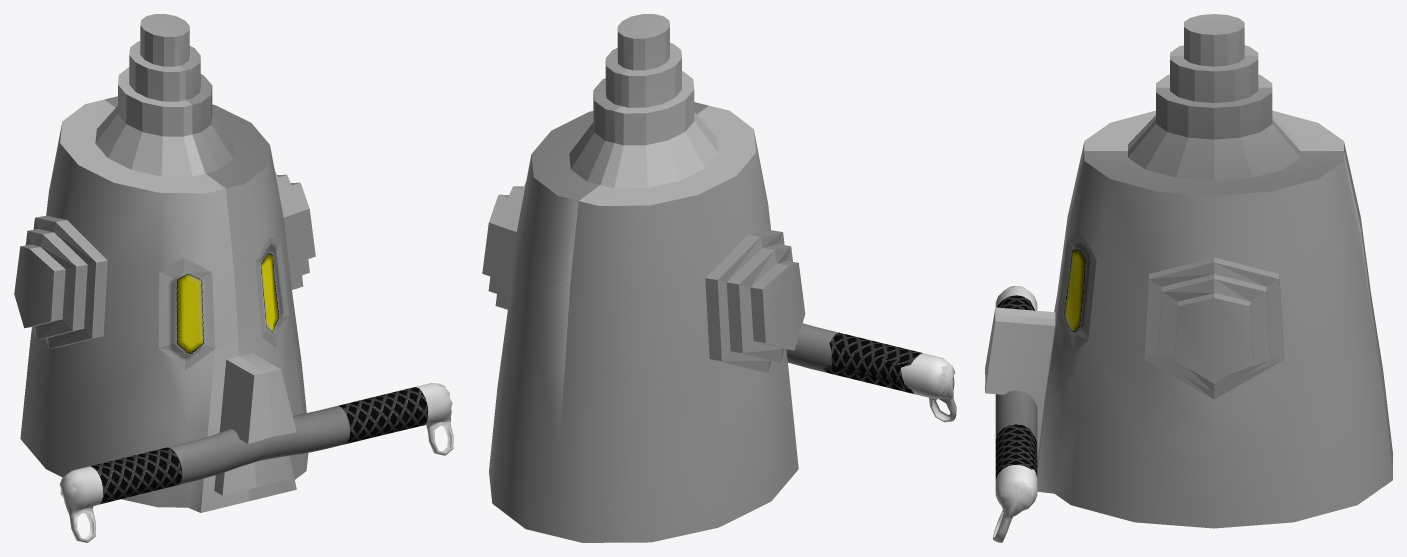
Rendered from Robot.FBX.
3 renders of one model, left to right at view 1: azimuth 30°, elevation 25°; view 2: azimuth 150°, elevation 25°; view 3: azimuth 270°, elevation 25°, orthographic. The views are drawn at different scales.
Visible parts, largest first — view 1: Cylinder001, Cylinder002; view 2: Cylinder001, Cylinder002; view 3: Cylinder001, Cylinder002.
Part boxes in pixels (x1,y1,x2,y2): Cylinder001: [14, 14, 315, 512]; Cylinder002: [59, 383, 453, 542]; Cylinder001: [482, 14, 805, 542]; Cylinder002: [786, 323, 956, 422]; Cylinder001: [985, 14, 1392, 528]; Cylinder002: [993, 286, 1037, 542].
Bounding box in the file's own units: 25.39 × 26.09 × 21.82.
2 materials, 2 textured.
